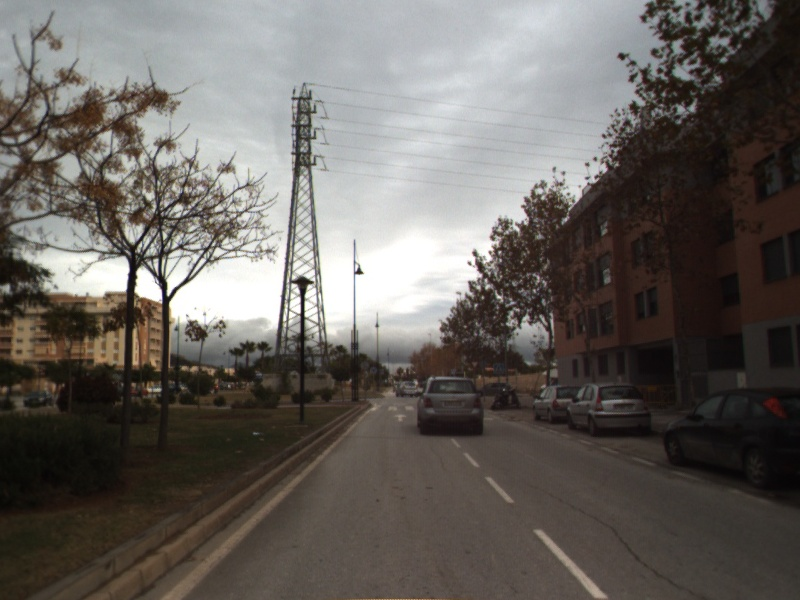STRAIGHT: (392, 412, 408, 423)
